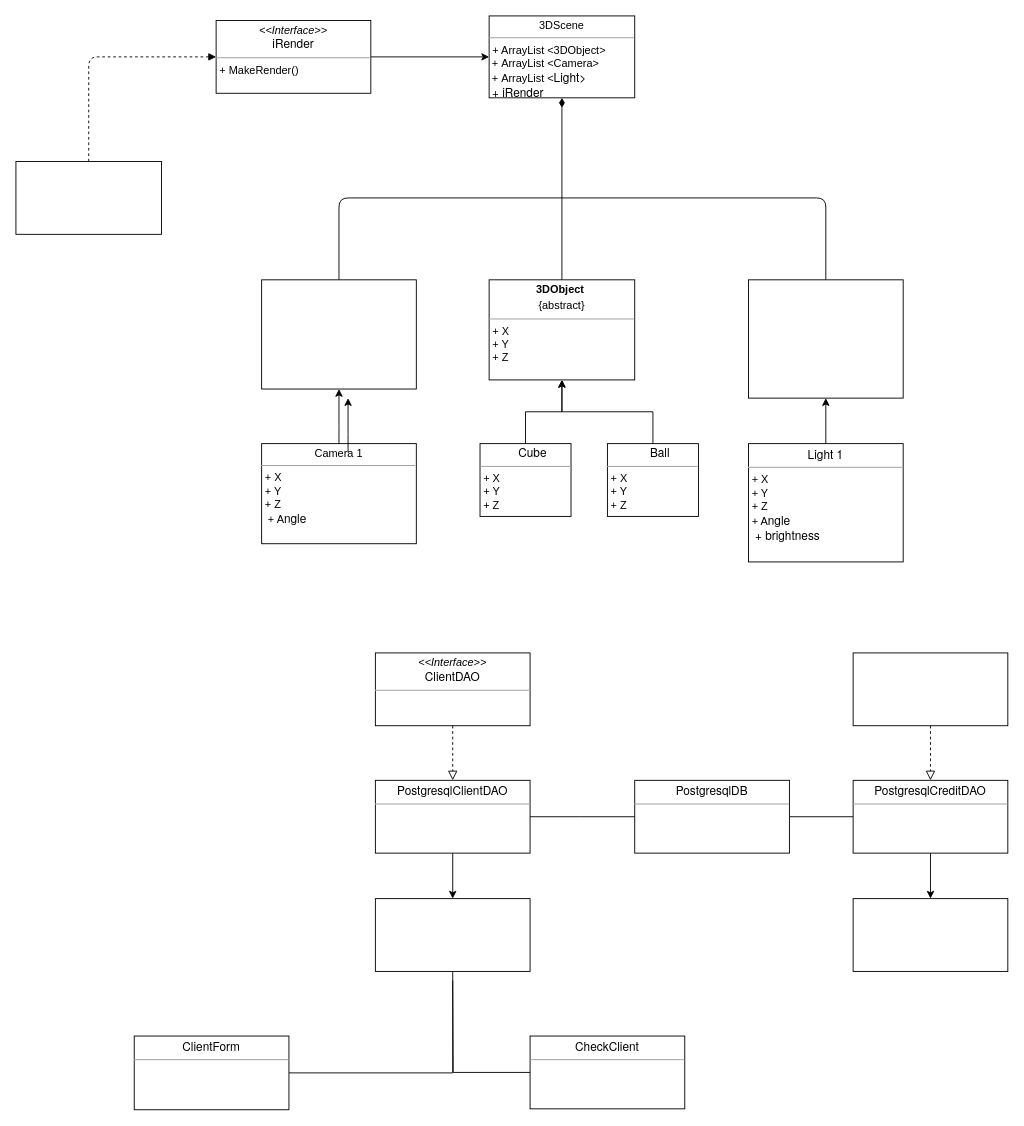
Image size: 1024x1126. Some labels were removed from this diagram. Each missing label, with the centre of its shape:
<<Interface>> CreditDAO: the point at 930,689
Camera {abstract} + X + Y + Z + A ngle: the point at 338,334
Client: the point at 452,934
Credit: the point at 930,934
Light {abstract} + X + Y + Z + A ngle + brightness: the point at 825,338
RenderZBuffer + MakeRender(): the point at 88,197
